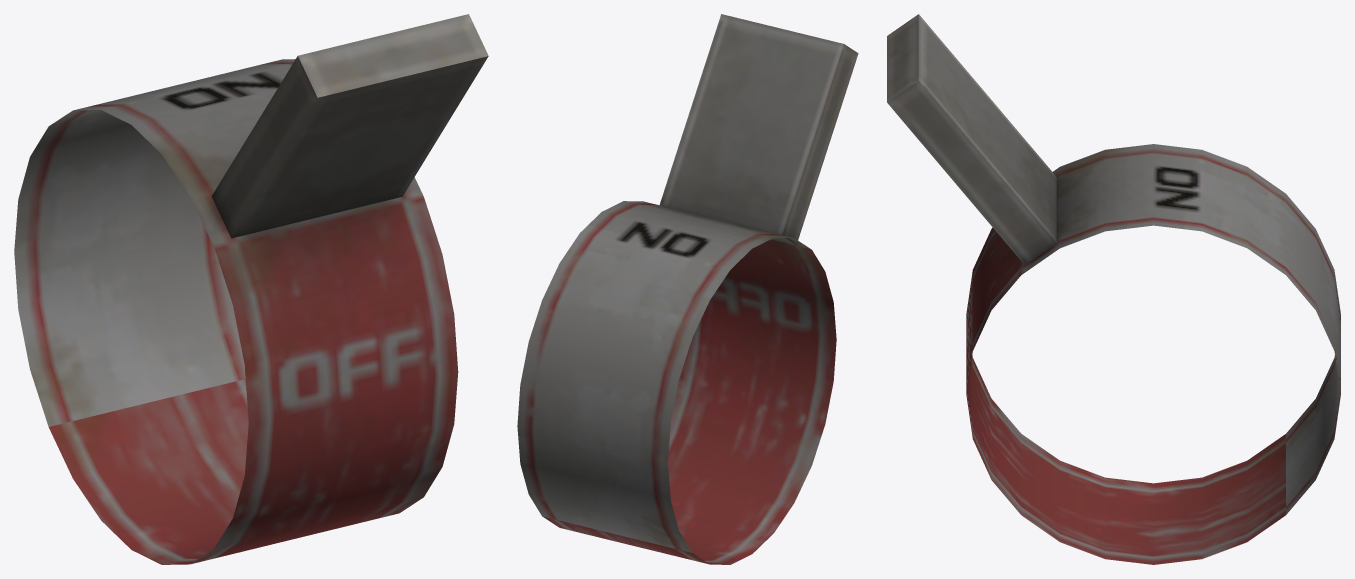
Rendered from substation_powerpanel_flipbutton.dae.
The picture shows the model from 3 angles, left to right: view 1: azimuth 30°, elevation 25°; view 2: azimuth 150°, elevation 25°; view 3: azimuth 270°, elevation 25°; orthographic projection. The views are drawn at different scales.
Visible parts, largest first — view 1: pCylinder75; view 2: pCylinder75; view 3: pCylinder75.
Boxes of the visible parts, x1,y1,x2,y2 form: pCylinder75: [14, 14, 488, 564]; pCylinder75: [517, 14, 858, 564]; pCylinder75: [887, 14, 1340, 564].
Size of the model in its own units: 0.0268 by 0.073 by 0.063.
1 material, 1 textured.
